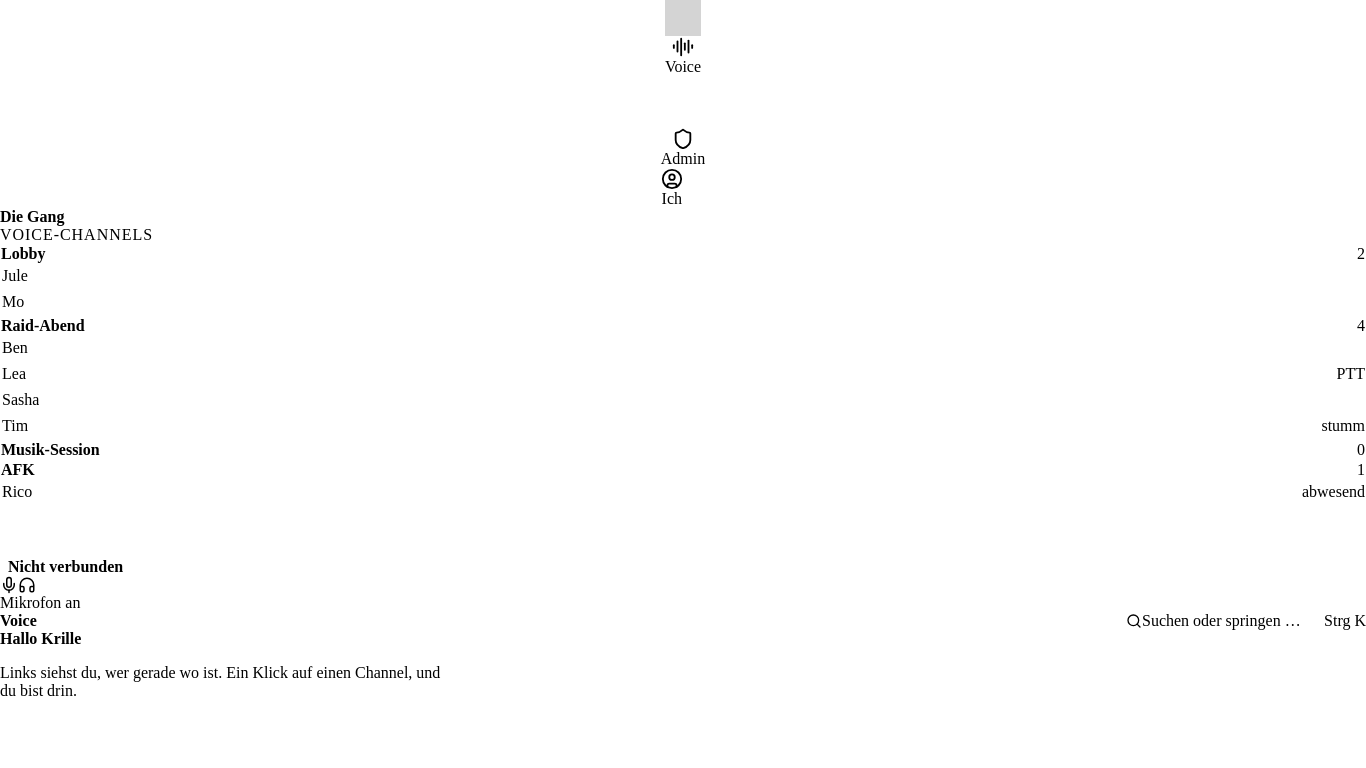
Test case: Shell › opens the palette with Strg K and joins a channel from it
Expected: the heading "Hallo Krille" is shown, [0,630,81,647]
Press k
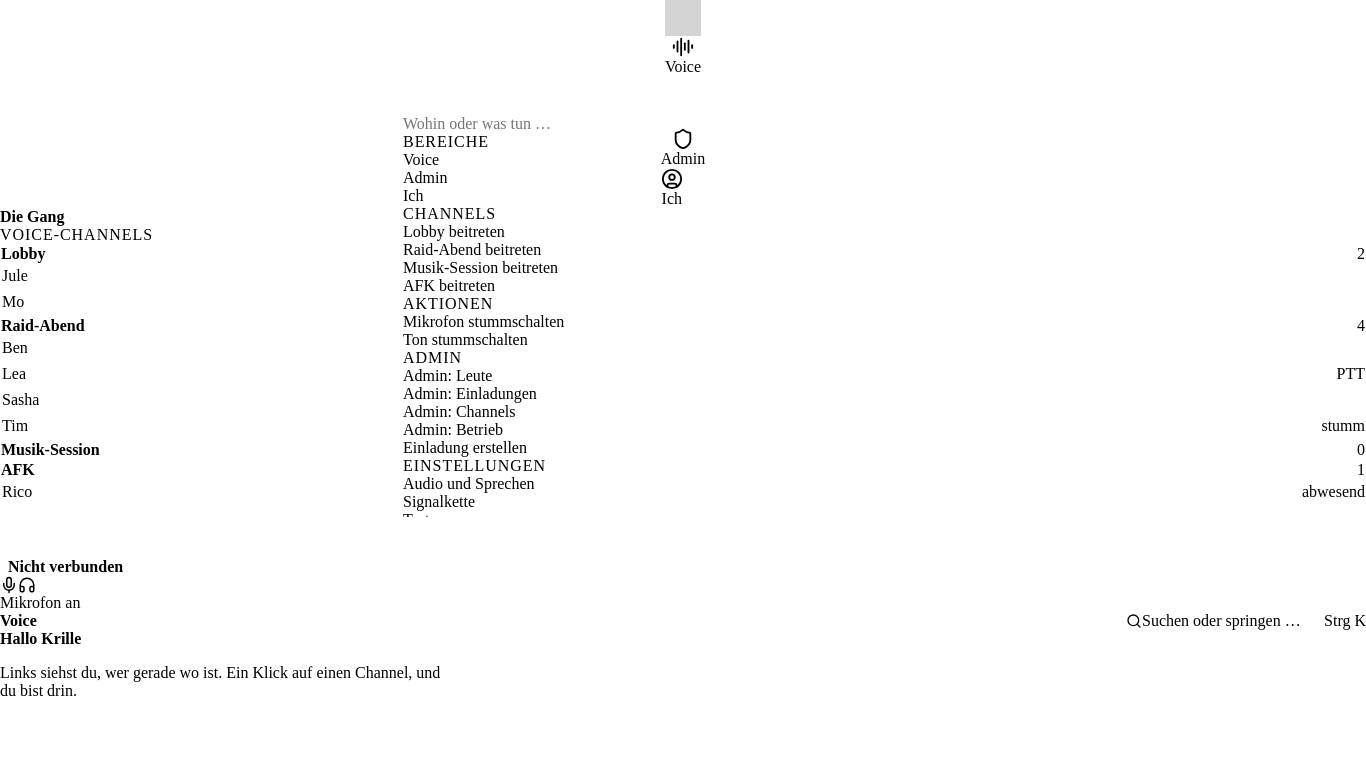
Click the option "Lobby beitreten".
click(454, 232)  # box [403,223,505,240]
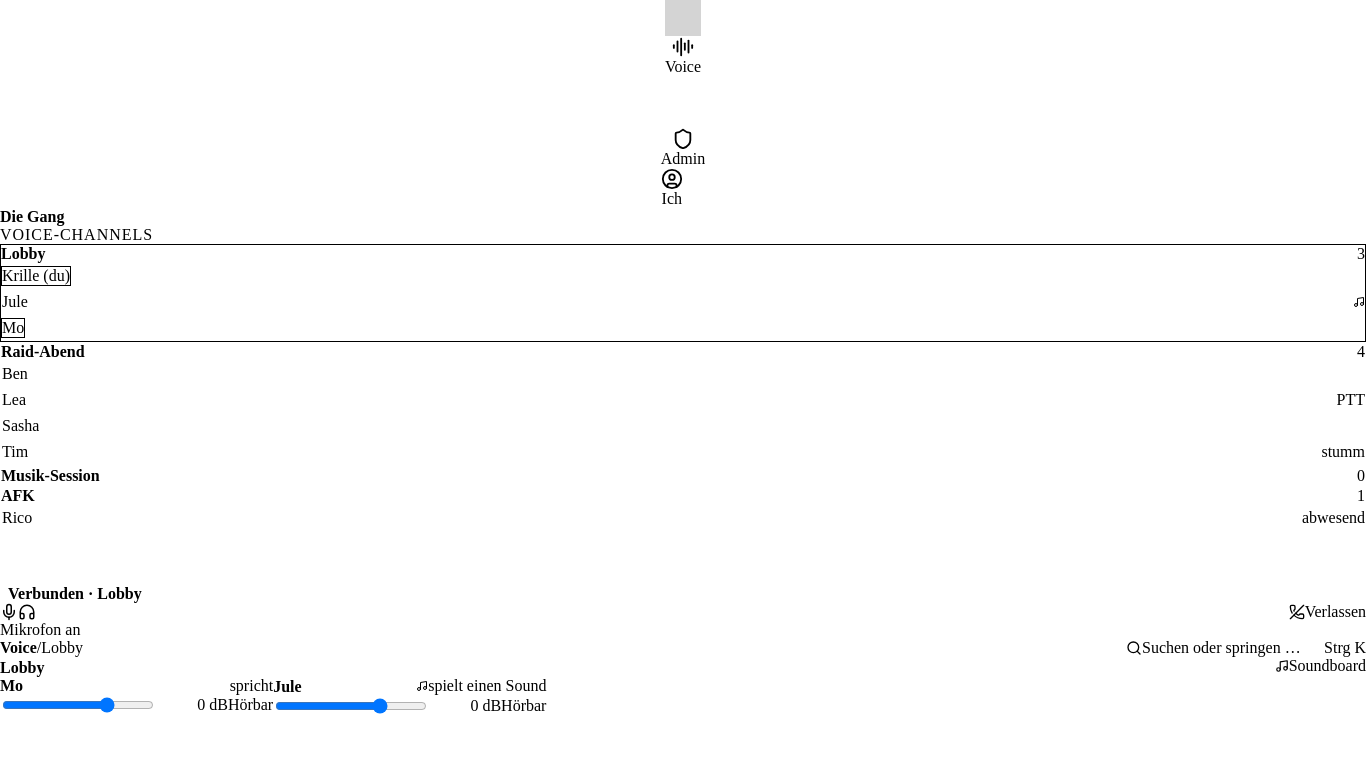
Expected: the heading "Lobby" is shown, [0,659,44,677]
Expected: the dialog is gone
